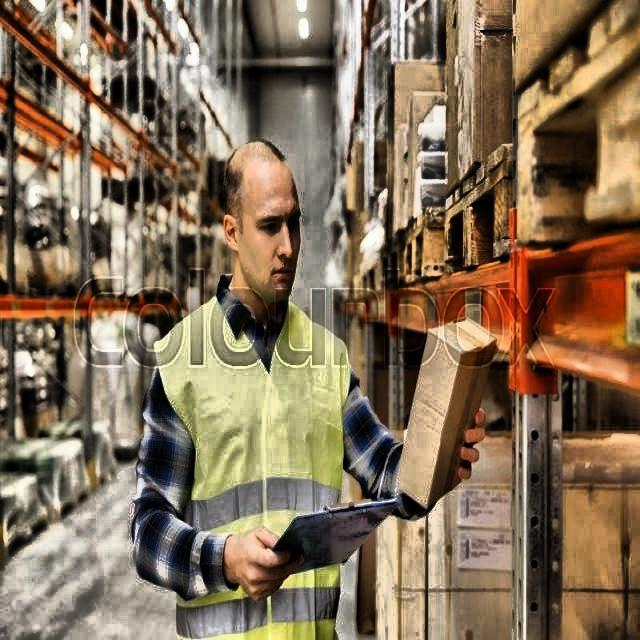safety_jacket: (176, 298, 373, 634)
